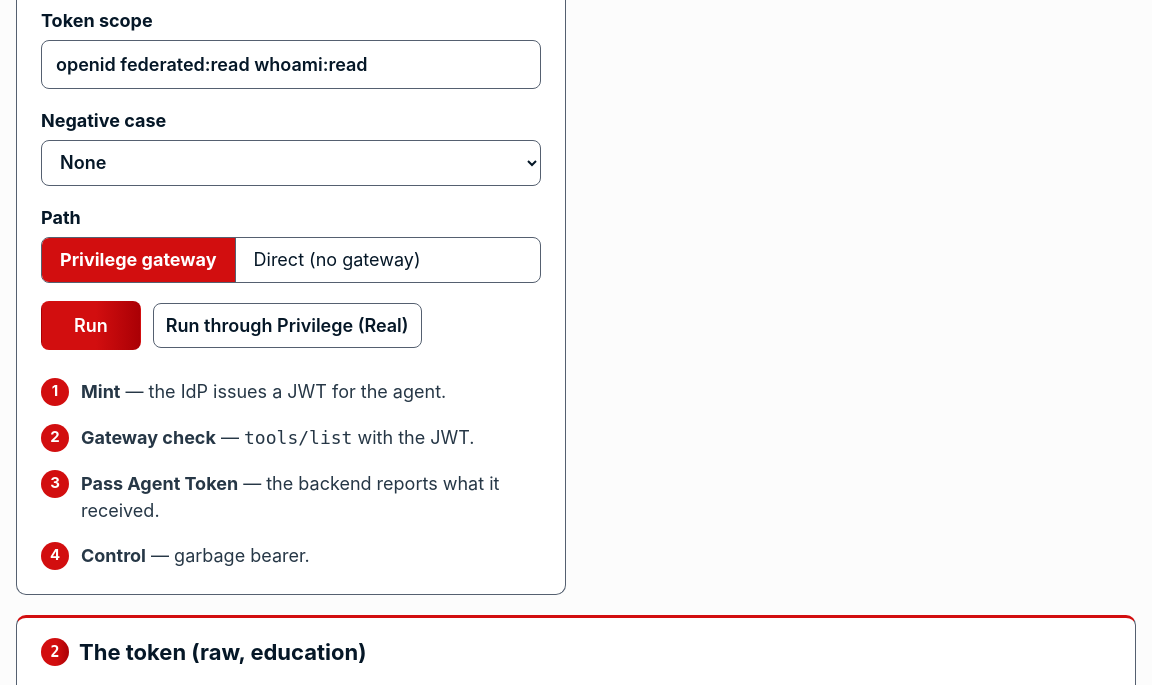
Scenario: Workload Identity Lab › the raw JWT renders in a full-size box with a Copy button
This screenshot has width=1152, height=685.
(page scrolled)
Click the button with test id "run-btn": (91, 325) [41,301,141,350]
(page scrolled)
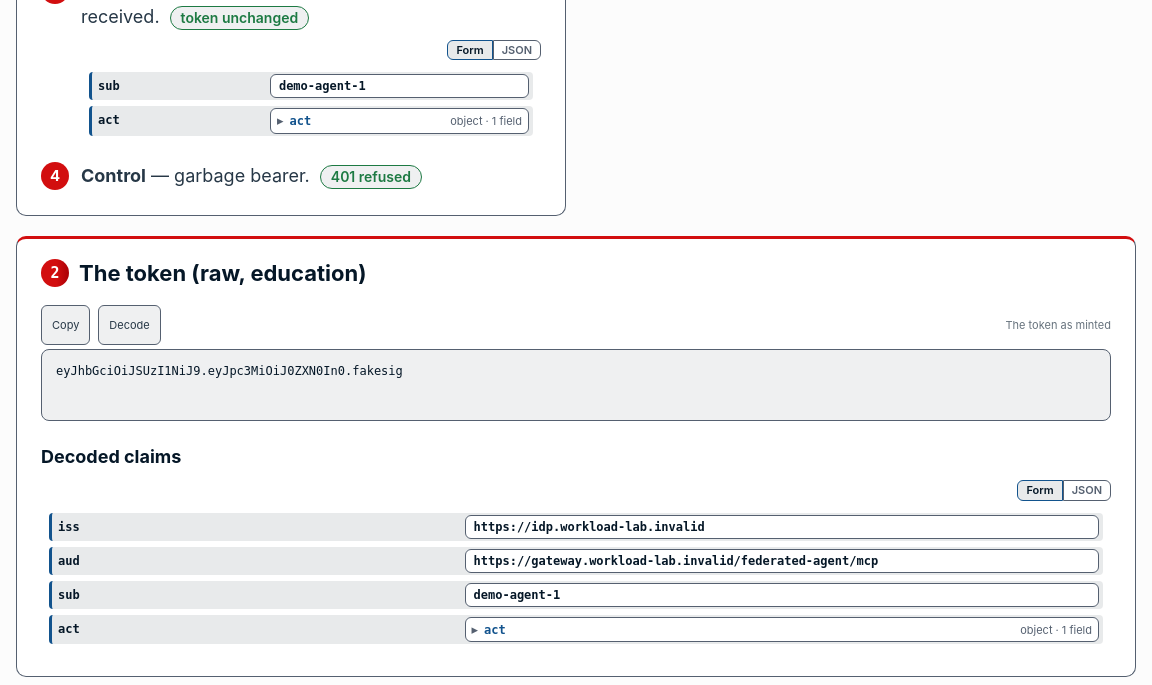
Result: the text with test id "raw-token-text" shows "eyJ" at [56,364,403,378]
Result: the button with test id "raw-token-copy" is shown
Click the button with test id "raw-token-copy": (66, 325) [41,305,90,345]
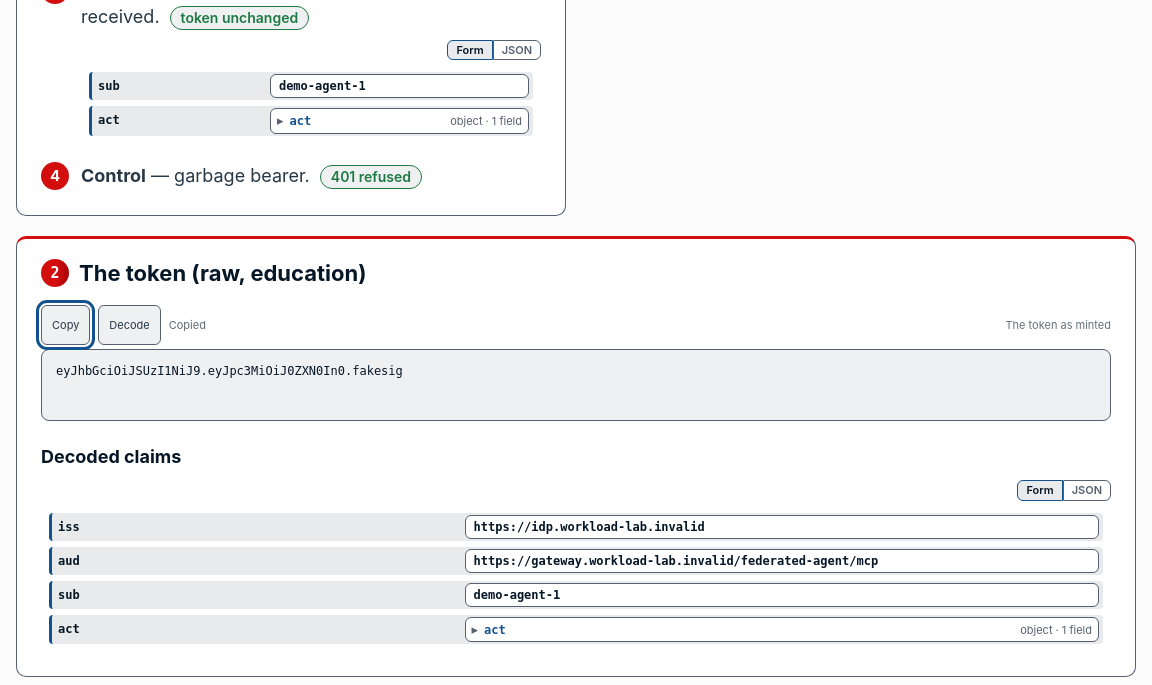
Result: the text with test id "raw-token-copy-state" reads "Copied" at [169,318,206,332]
